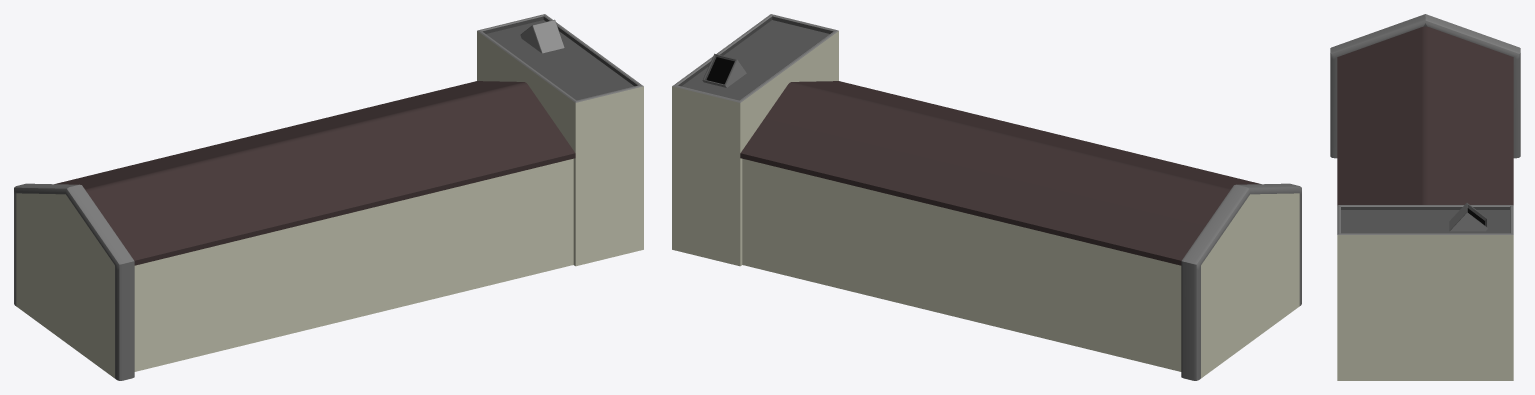
The picture shows the model from 3 angles, left to right: view 1: azimuth 30°, elevation 25°; view 2: azimuth 150°, elevation 25°; view 3: azimuth 270°, elevation 25°; orthographic projection. The views are drawn at different scales.
Parts seen in each view (by area): view 1: pCube1, pCube2; view 2: pCube1, pCube2; view 3: pCube1, pCube2.
Boxes of the visible parts, box(x1,y1,x2,y2) form: pCube1: box(14, 14, 643, 380); pCube2: box(520, 19, 564, 53); pCube1: box(672, 14, 1301, 380); pCube2: box(702, 53, 746, 87); pCube1: box(1330, 14, 1520, 380); pCube2: box(1449, 203, 1487, 231).
Bounding box in the file's own units: 15.48 × 5.06 × 5.4.
